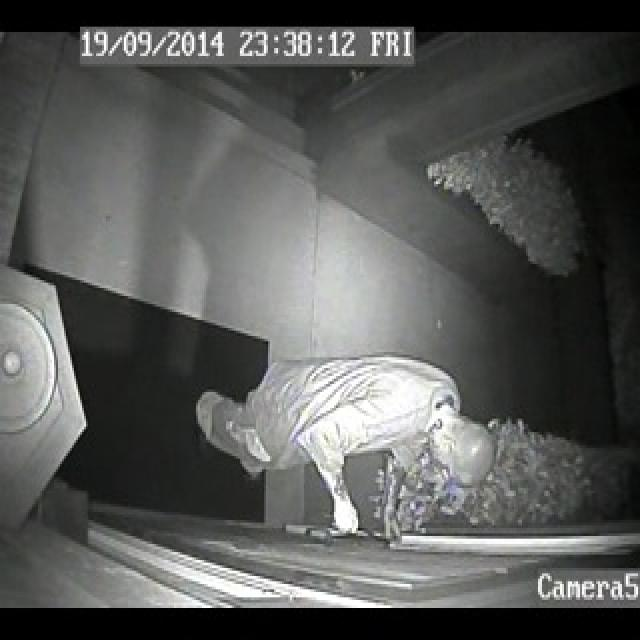thief: (194, 347, 500, 536)
